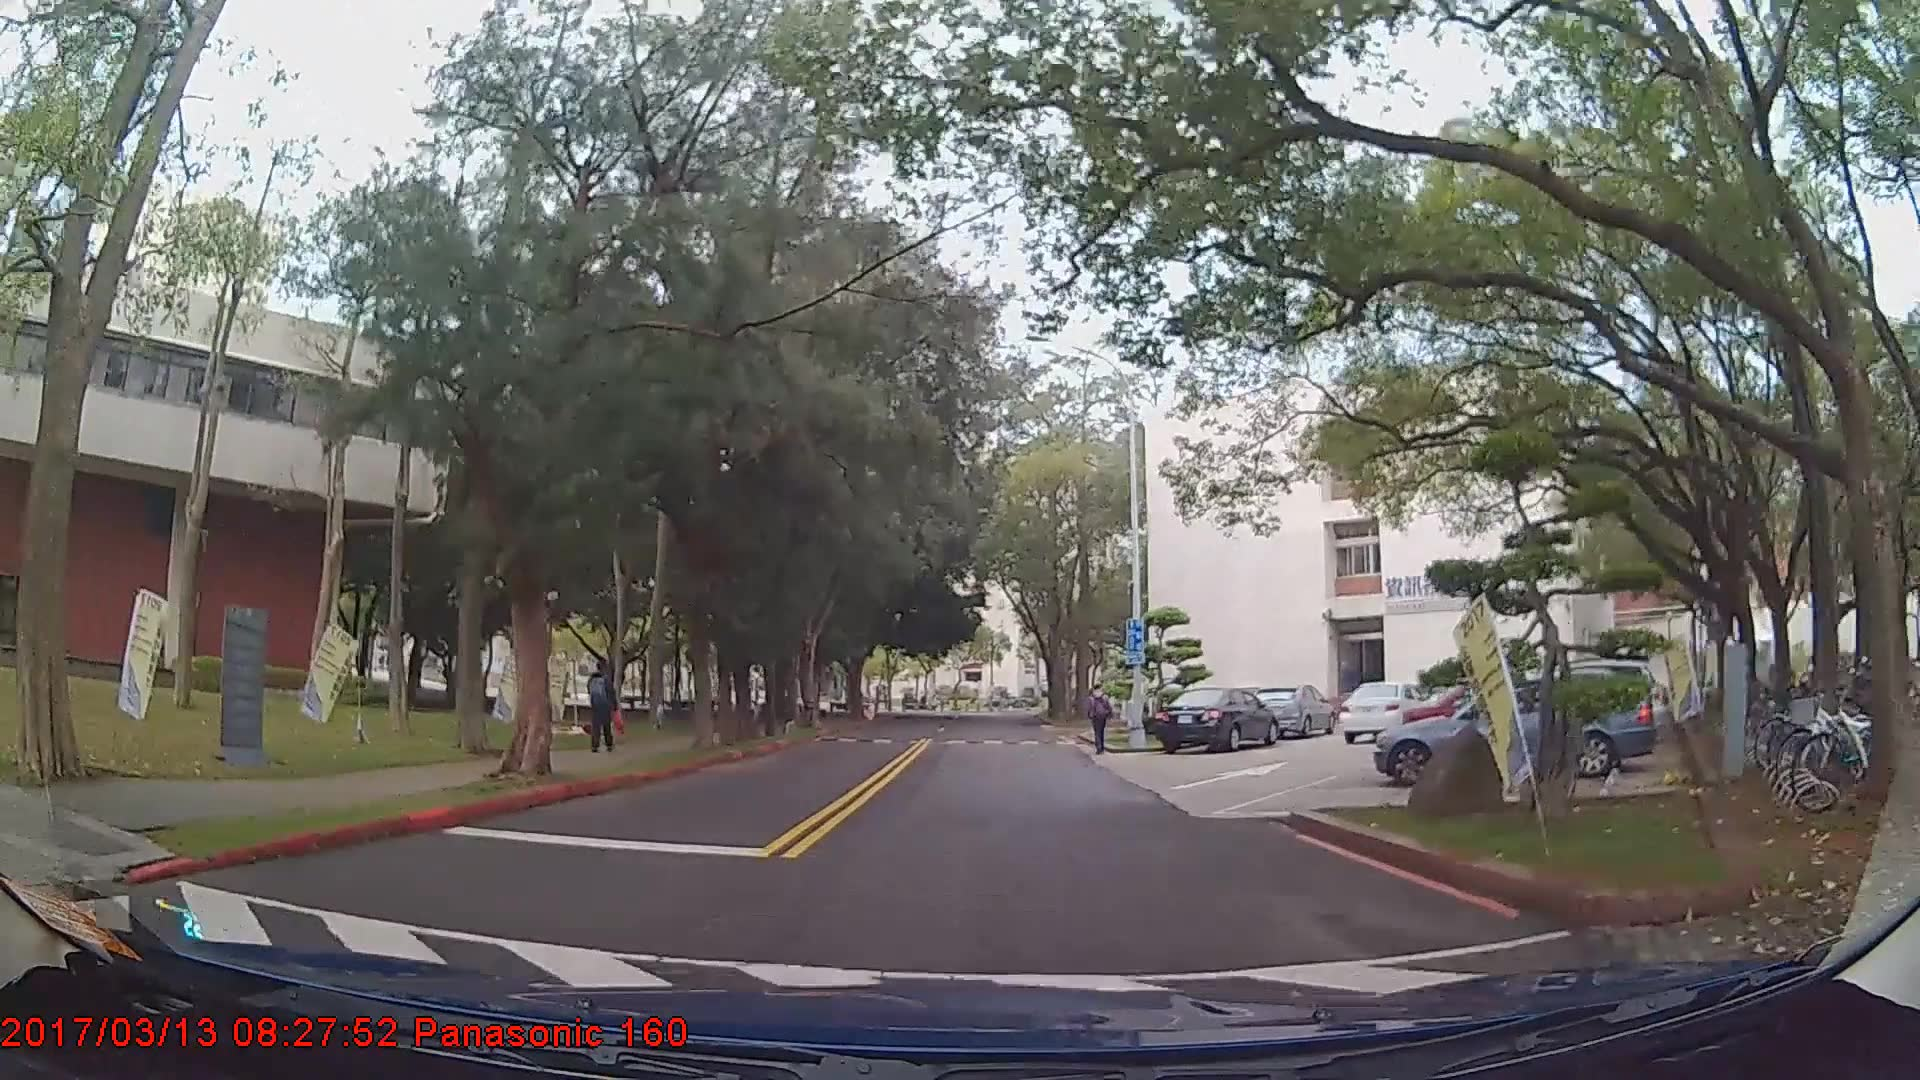pedestrian: (589, 661, 619, 755), (1087, 686, 1115, 759)
vehicle: (1370, 670, 1652, 790), (1151, 688, 1280, 756), (1338, 681, 1427, 745), (1254, 682, 1336, 738)
